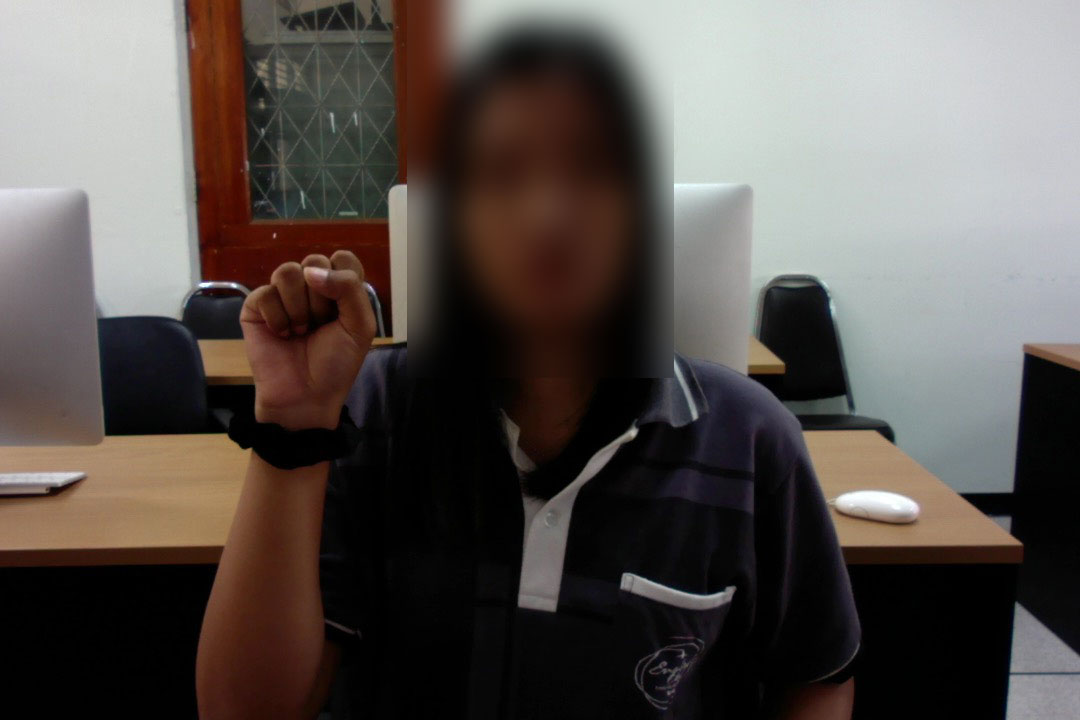sor: (235, 241, 386, 420)
